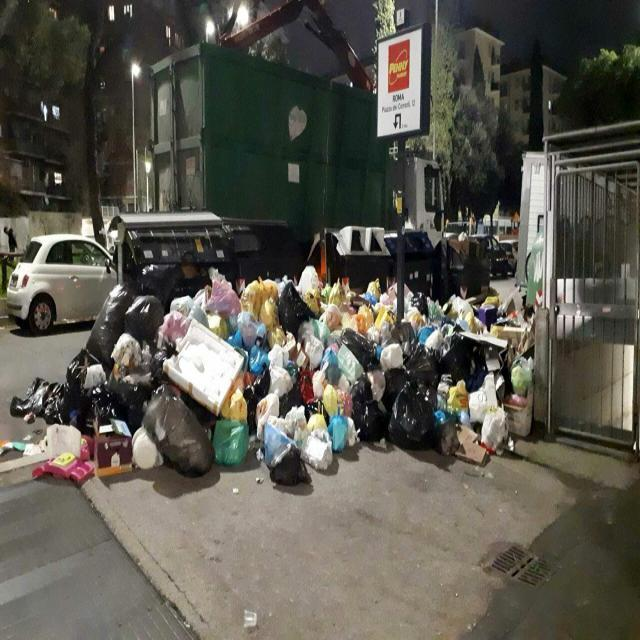Trashbag: (150, 401, 219, 473), (85, 287, 131, 357), (388, 393, 436, 447), (10, 384, 70, 424), (264, 446, 310, 490), (278, 281, 316, 332), (82, 388, 121, 437), (436, 328, 474, 378), (124, 300, 166, 342), (66, 353, 101, 396), (342, 324, 377, 366), (358, 403, 384, 447), (383, 364, 415, 397), (412, 351, 438, 383), (388, 324, 418, 349), (349, 373, 372, 405)
